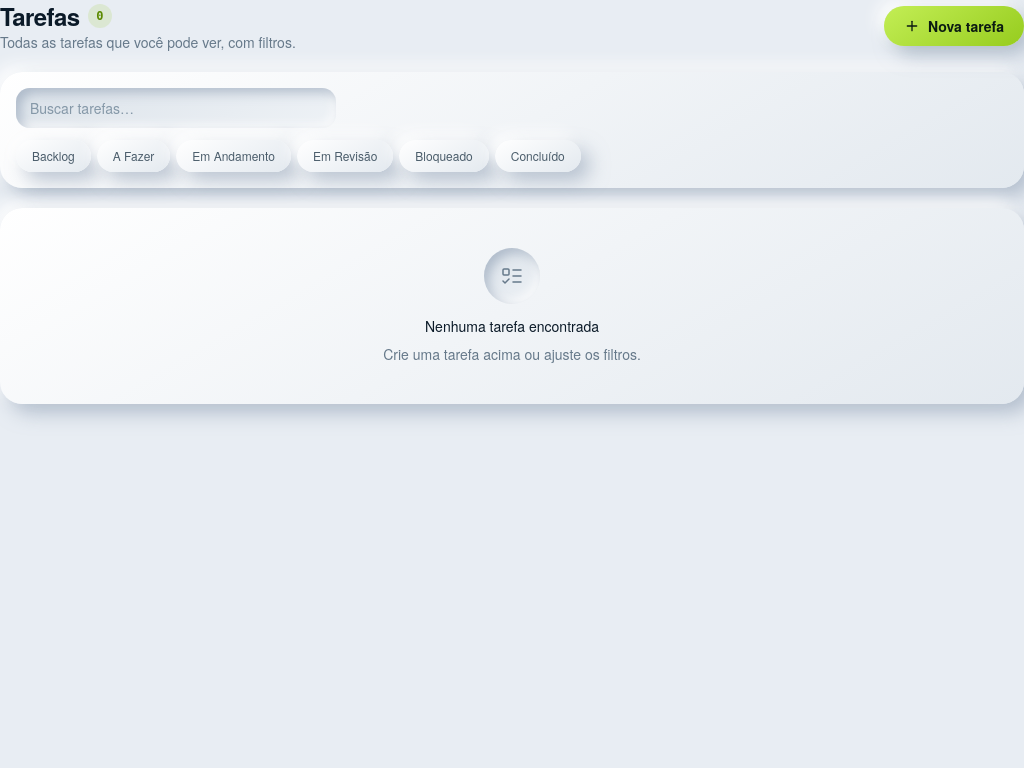
Tasks page › creates a task through the creation dialog and shows it in the list
Expected: the text "Nenhuma tarefa encontrada" is shown, [425,316,599,336]
Click the button "Nova tarefa": x=954, y=26 [884,6,1023,46]
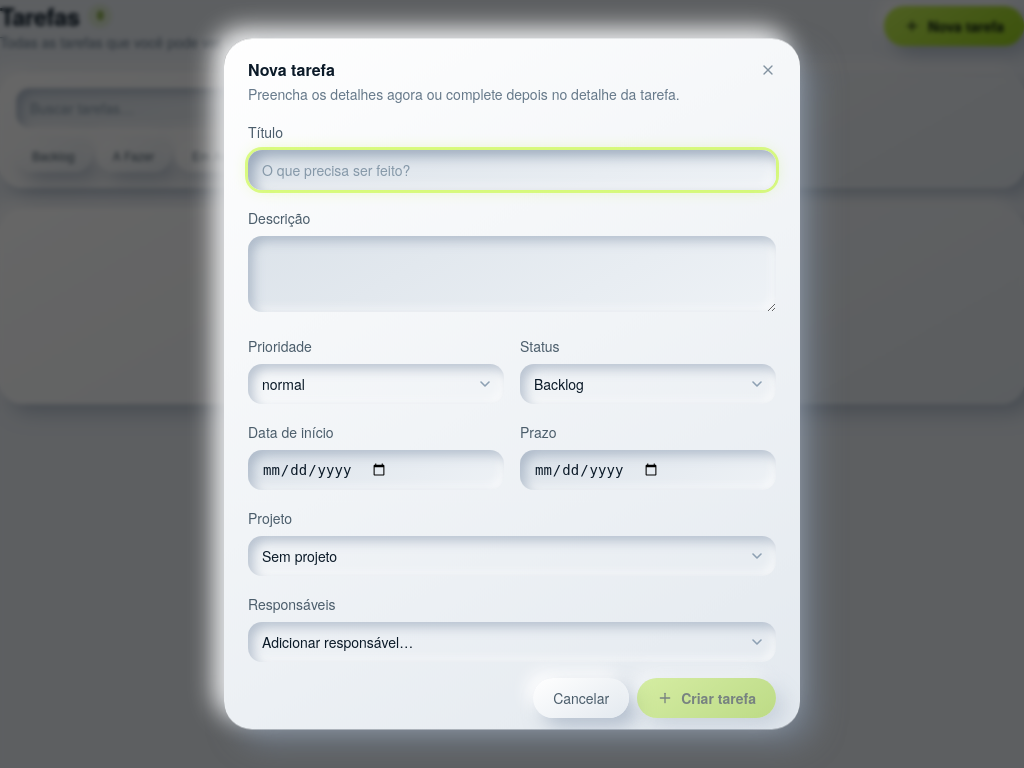
In the field labelled "Título": x=512, y=170 [248,150,776,190], type "Nova tarefa rápida"
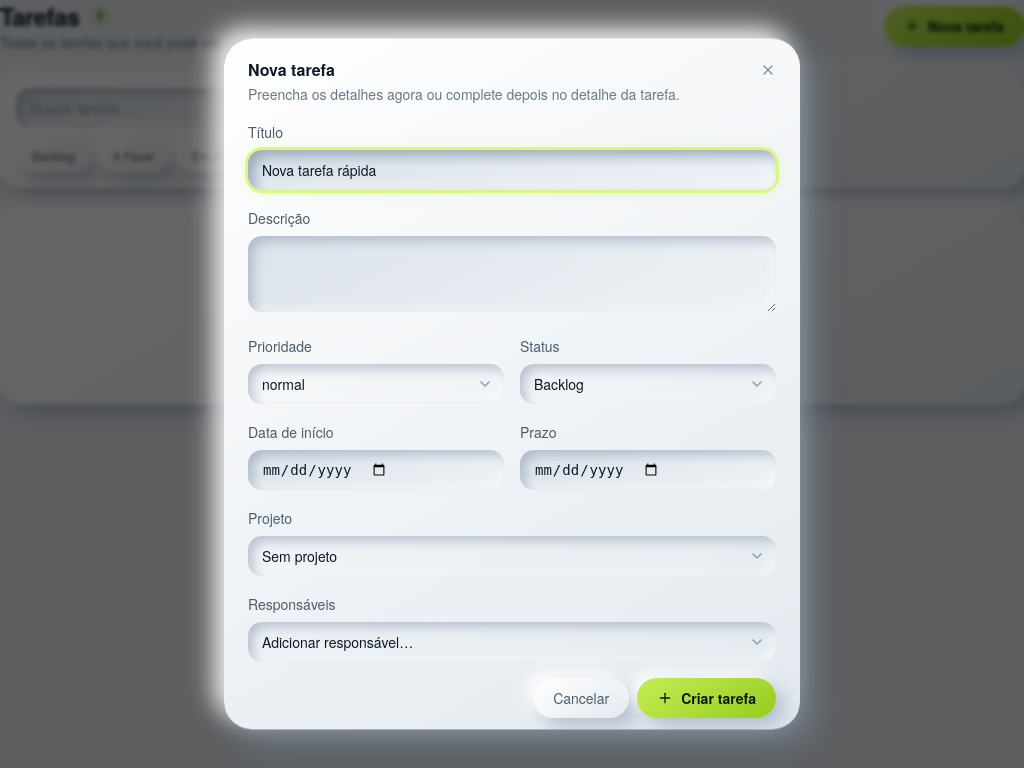
Click the button "Criar tarefa": x=707, y=698 [637,678,776,718]
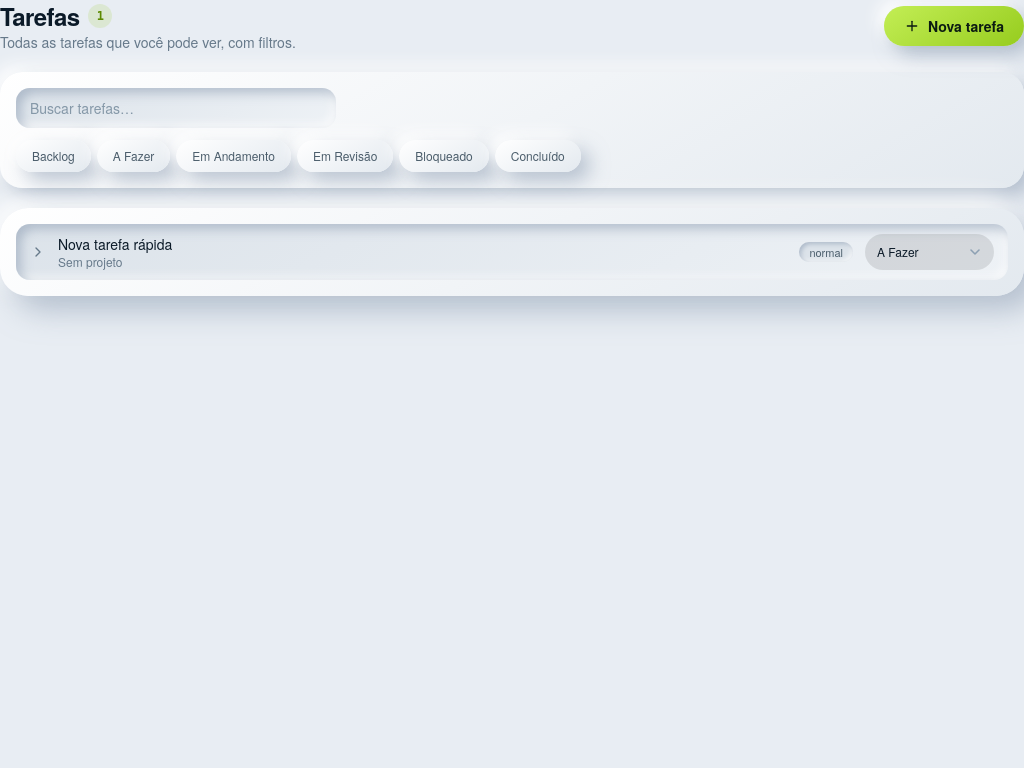
Expected: the text "Nova tarefa rápida" is shown, [58,234,172,254]
